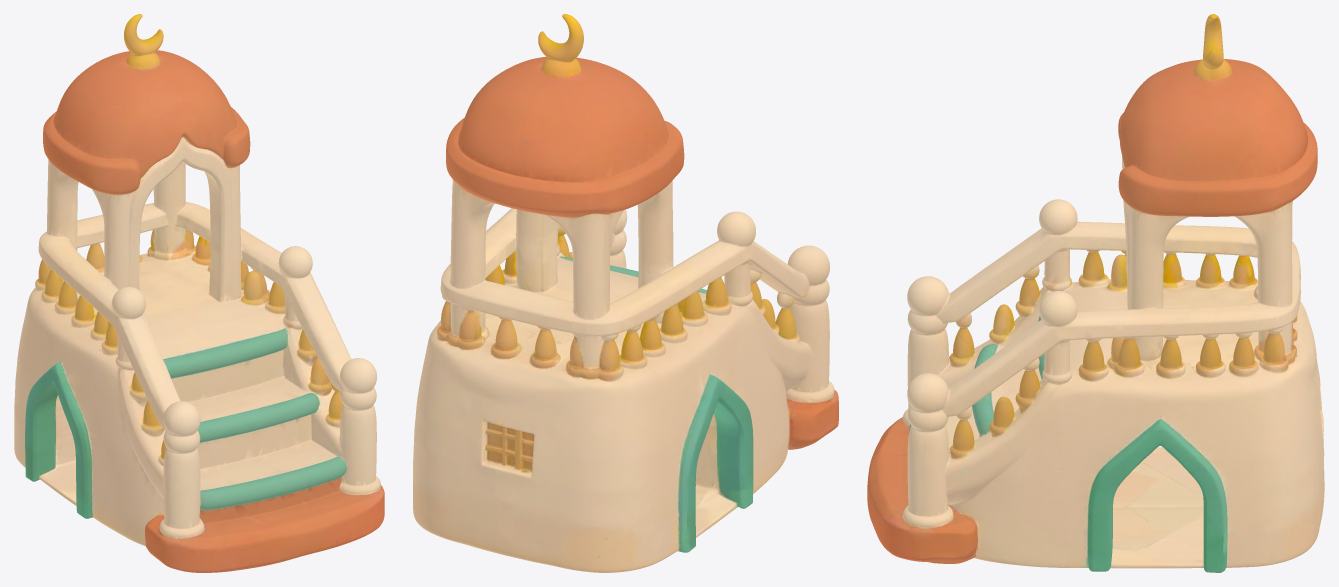
The model's file is minbar-variant-09-teal-panel.glb.
3 views of the same model, side by side, from view 1: azimuth 30°, elevation 25°; view 2: azimuth 150°, elevation 25°; view 3: azimuth 270°, elevation 25° (orthographic). The views are drawn at different scales.
Parts seen in each view (by area): view 1: mesh_node; view 2: mesh_node; view 3: mesh_node.
Part boxes in pixels (x1,y1,x2,y2): mesh_node: [14, 14, 384, 572]; mesh_node: [413, 14, 838, 572]; mesh_node: [867, 14, 1324, 572].
Bounding box in the file's own units: 1.04 × 1.9 × 1.59.
Materials: 1 (1 with a texture image).
